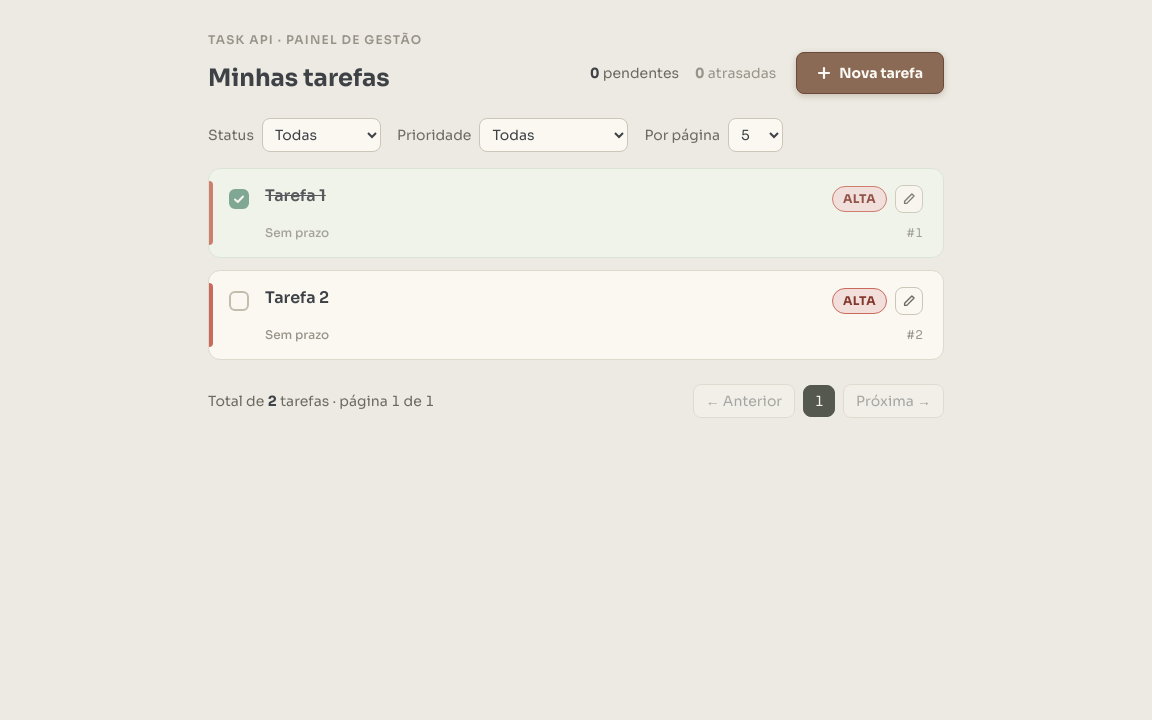
Test: TaskListPage - formulário › clicar no lápis de um card abre o formulário no modo edição para aquela tarefa
expect the heading "Tarefa 2" is shown: met, box [265,287,329,309]
Click the button named "Editar tarefa Tarefa 2" at coordinates (909, 301), box [895,287,923,315]
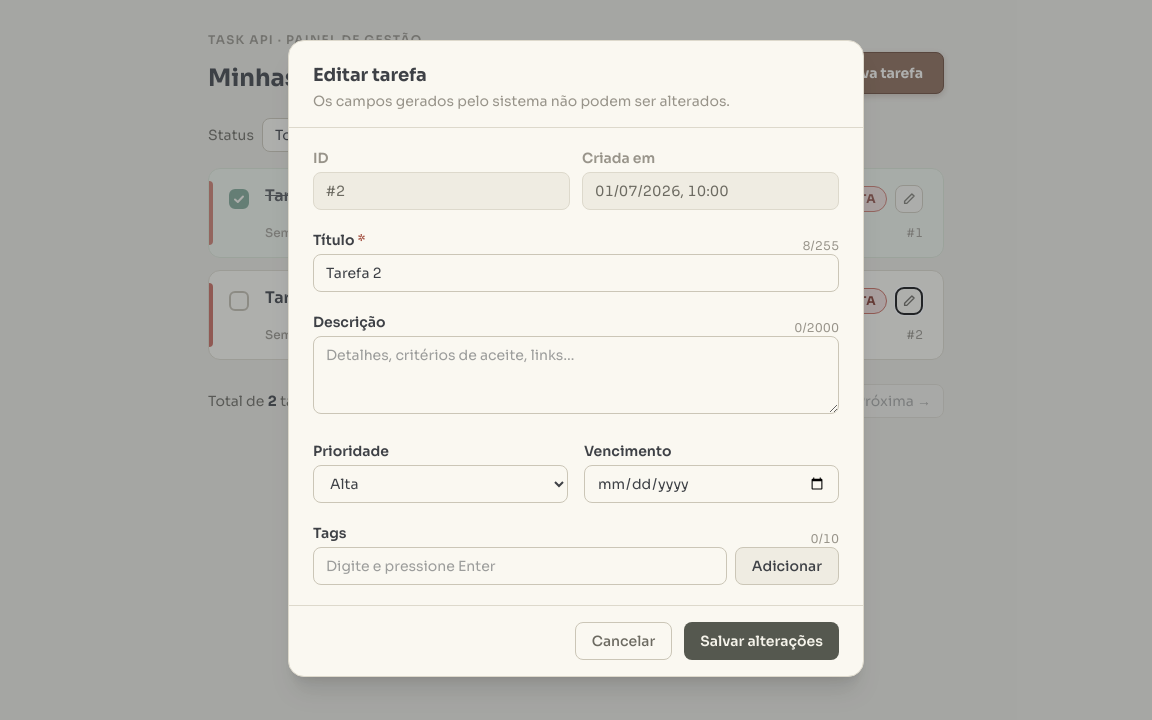
expect the heading "Editar tarefa" is shown: met, box [313,64,427,86]
expect the text "#2" is shown: met, box [313,172,570,210]
